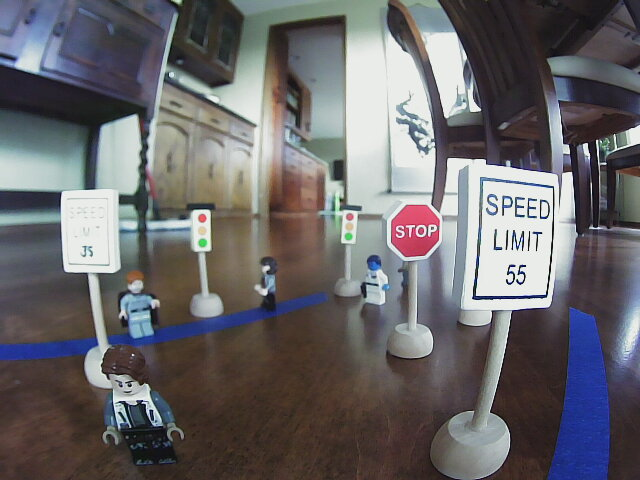SpeedLimit35: (59, 193, 117, 273)
SpeedLimit55: (464, 166, 554, 305)
StopSign: (387, 209, 447, 258)
TrafficLight: (187, 202, 214, 255), (339, 200, 359, 245)
person: (100, 346, 185, 466), (122, 269, 160, 342), (355, 255, 392, 313), (251, 252, 281, 314)
